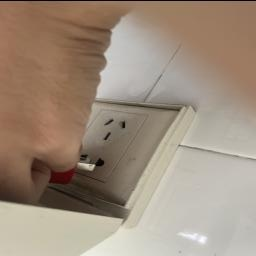outlet: (48, 89, 193, 238)
